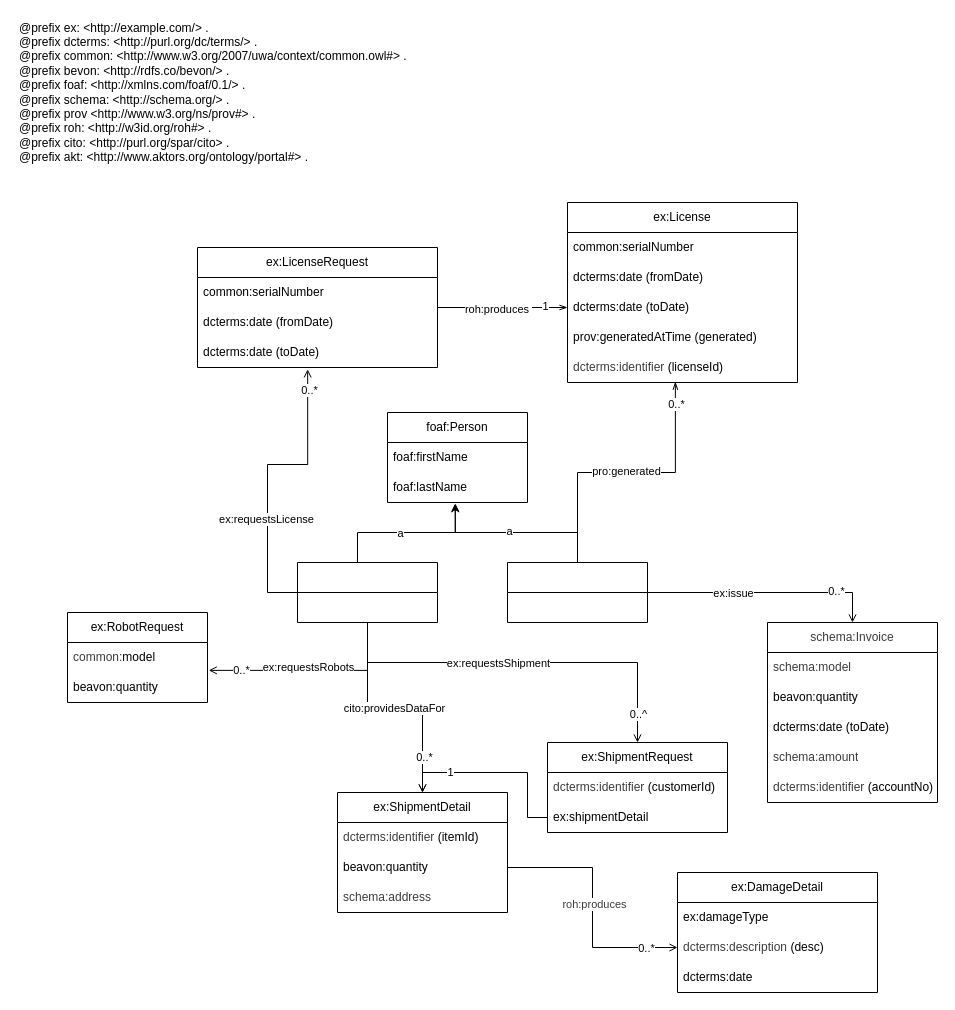
Some shapes in this 955 by 1010 pixel diagram are drawn without their labels. Each missing label, with the centre of its shape:
"akt:Employee" belongs at pixel 577 592.
"ex:Customer" belongs at pixel 367 592.
